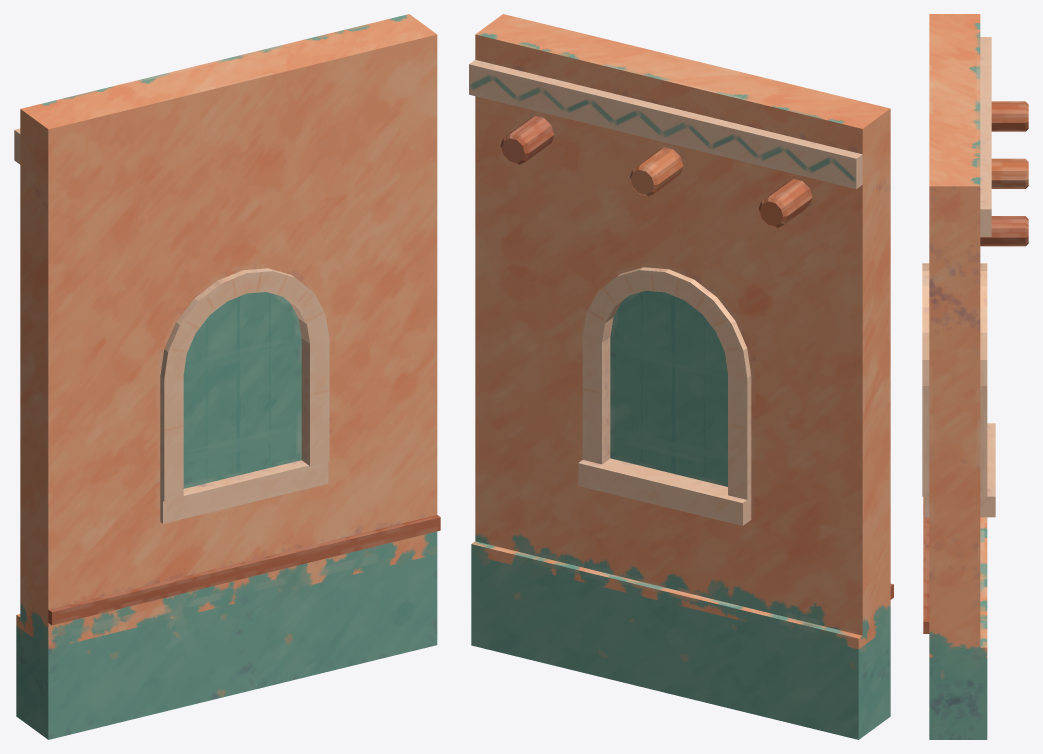
File: wall2_shutter.fbx
3 renders of one model, left to right at view 1: azimuth 30°, elevation 25°; view 2: azimuth 150°, elevation 25°; view 3: azimuth 270°, elevation 25°, orthographic. The views are drawn at different scales.
Visible parts, largest first — view 1: wall2_shutter; view 2: wall2_shutter; view 3: wall2_shutter.
Boxes of the visible parts, left/top/right/bottom form: wall2_shutter: left=14, top=14, right=440, bottom=739; wall2_shutter: left=469, top=14, right=893, bottom=739; wall2_shutter: left=922, top=14, right=1028, bottom=739.
Bounding box in the file's own units: 8 × 12 × 2.09.
1 material, 1 textured.
